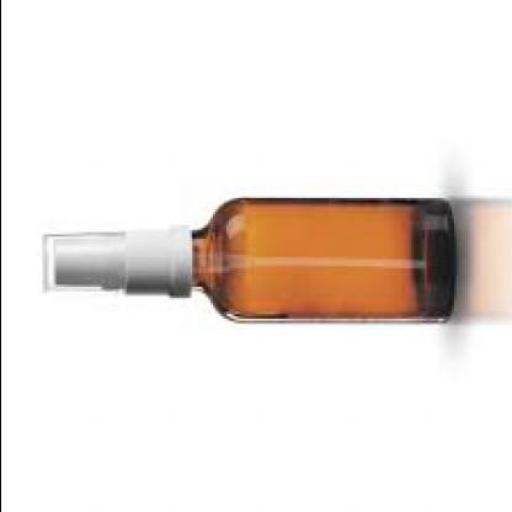glass: (190, 200, 450, 326)
plastic: (36, 225, 189, 303)
